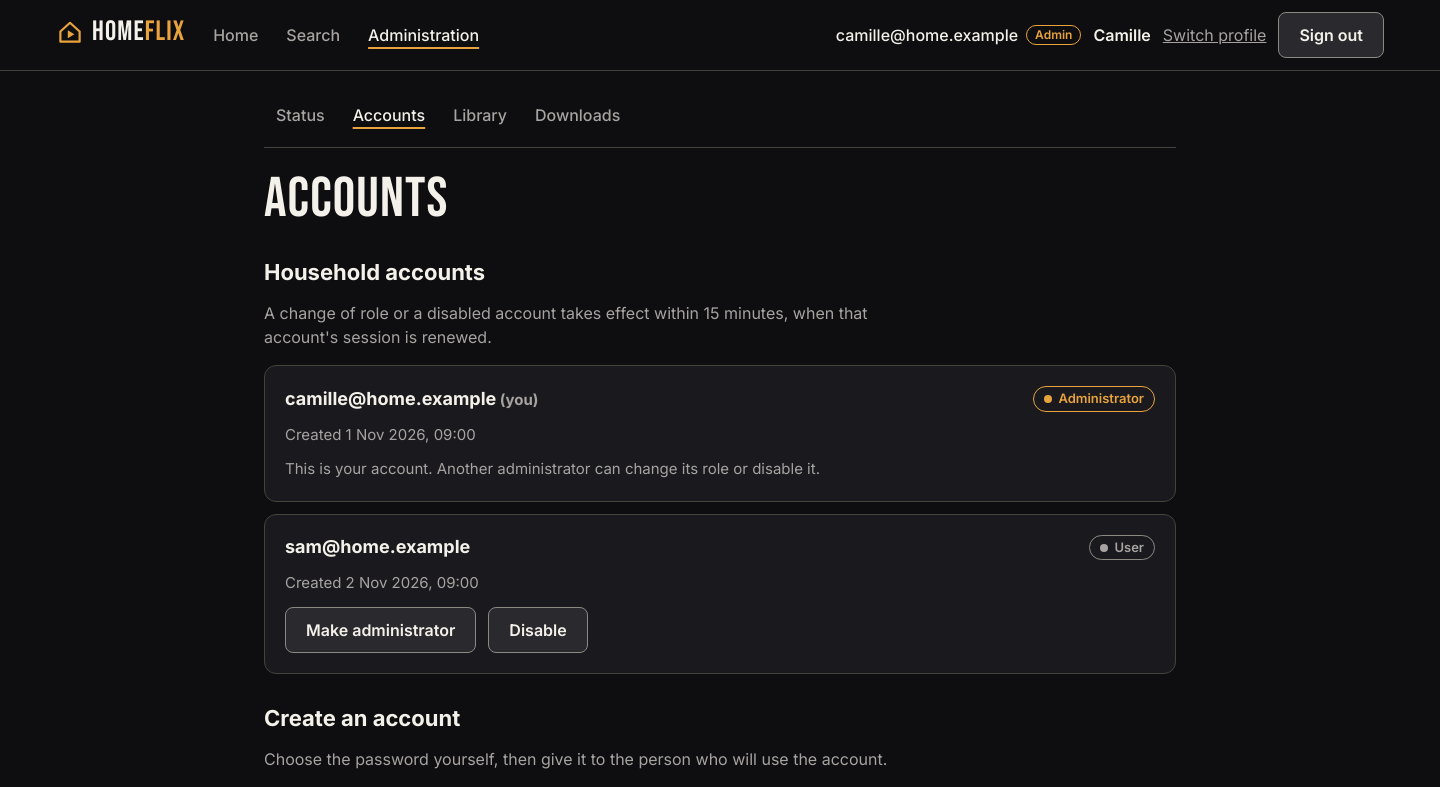
Test: AccountsPage › disables an account
Step 1. Click the button with aria-label "Disable sam@home.example" → coordinates (538, 630), box [488,607,588,653]
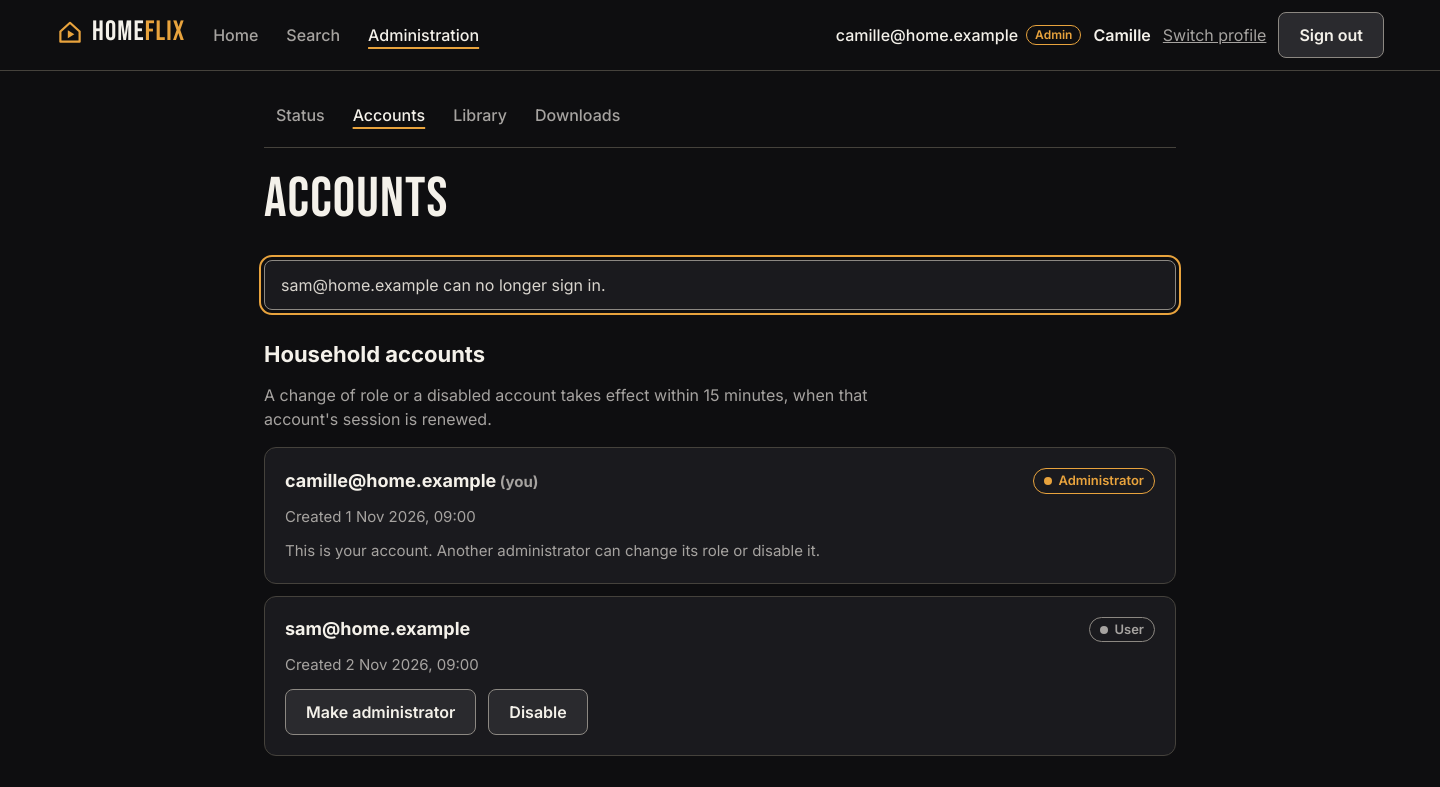
Expected: the message reads "sam@home.example can no longer sign in.", [281,275,606,295]
